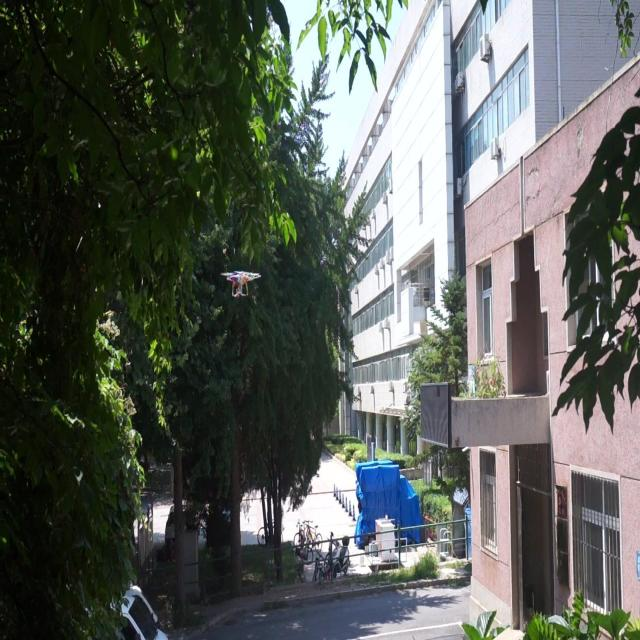drone: (220, 262, 263, 304)
